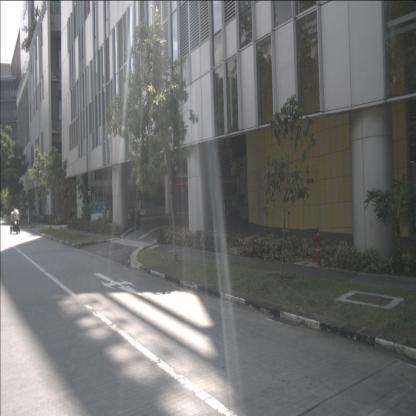vehicle-car: (111, 200, 140, 226)
vehicle-motorcycle: (10, 208, 22, 234)
